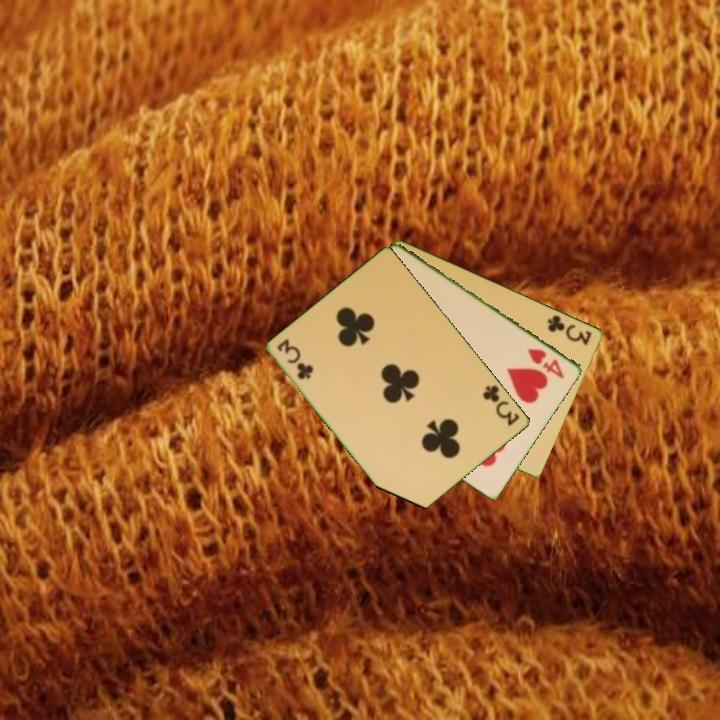3c: (479, 381, 523, 429), (274, 335, 316, 383), (544, 311, 595, 348)
4h: (525, 344, 567, 381)
